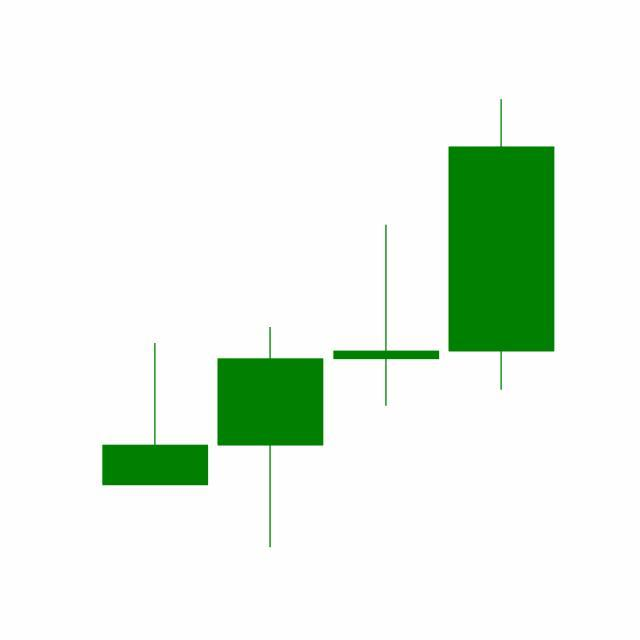Spinning Top: (329, 224, 445, 409)
